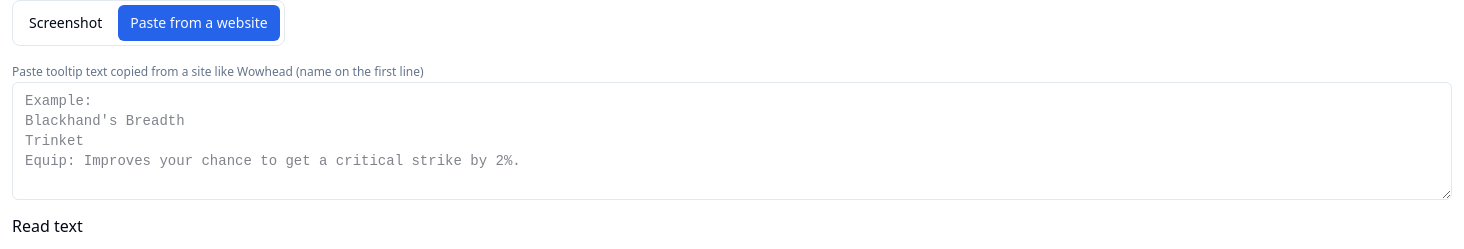
Test: WoW item compare › explains inside Discord that reading screenshots works in the browser
Click the radio button labelled "Screenshot". click: {"x": 66, "y": 23}
box: top-left (17, 5), bottom-right (114, 41)
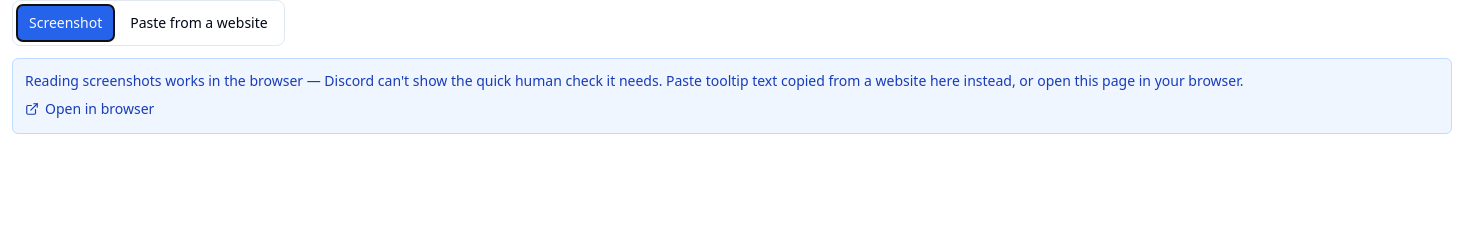
Now the text "Reading screenshots works in the browser" is shown, box top-left (25, 71), bottom-right (1244, 90)
